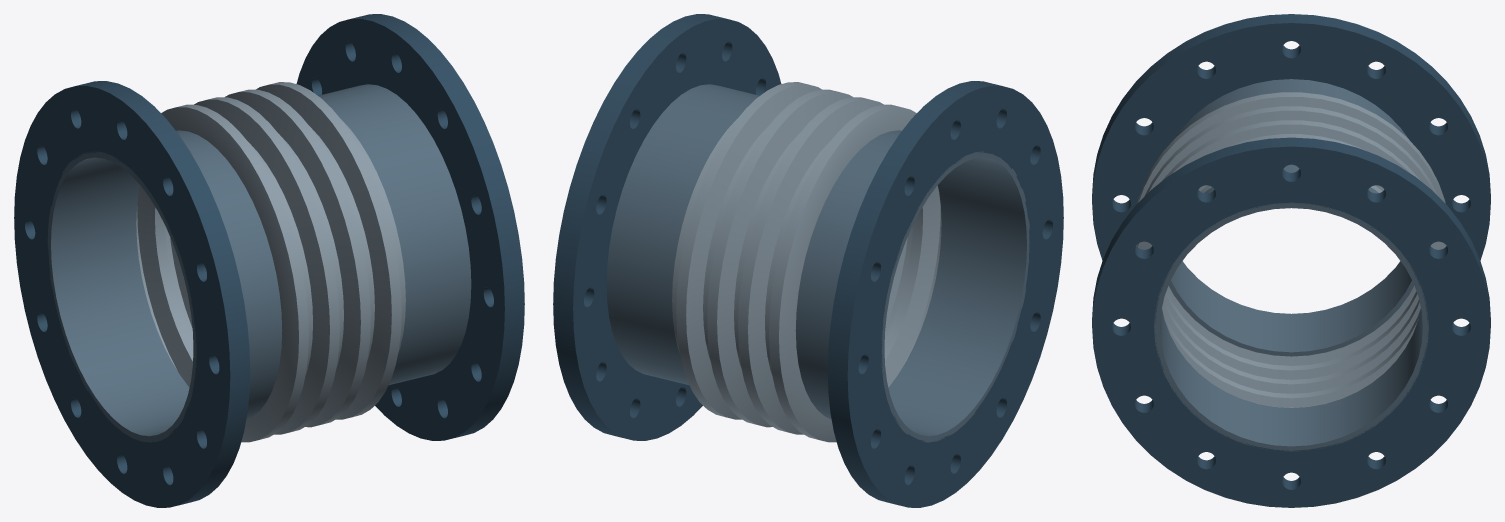
File: flan-dn350-L430-D377-f.glb
3 renders of one model, left to right at view 1: azimuth 30°, elevation 25°; view 2: azimuth 150°, elevation 25°; view 3: azimuth 270°, elevation 25°, orthographic. The views are drawn at different scales.
Parts seen in each view (by area): view 1: prokladka_silfon_1, homut_flanec_1, patrubok_1, homut_flanec_2, patrubok_2; view 2: prokladka_silfon_1, homut_flanec_1, patrubok_1, homut_flanec_2, patrubok_2; view 3: homut_flanec_2, homut_flanec_1, prokladka_silfon_1, patrubok_2, patrubok_1.
Boxes of the visible parts, x1,y1,x2,y2 form: prokladka_silfon_1: (136,82,405,442); homut_flanec_1: (14,81,250,507); patrubok_1: (47,130,282,442); homut_flanec_2: (296,14,524,440); patrubok_2: (318,84,471,384); prokladka_silfon_1: (672,82,941,442); homut_flanec_1: (827,81,1063,507); patrubok_1: (795,130,1029,442); homut_flanec_2: (553,14,781,440); patrubok_2: (606,84,759,384); homut_flanec_2: (1092,137,1490,507); homut_flanec_1: (1092,14,1490,260); prokladka_silfon_1: (1136,92,1446,407); patrubok_2: (1154,164,1428,451); patrubok_1: (1168,79,1414,356).
Bounding box in the file's own units: 430 × 547 × 547.
